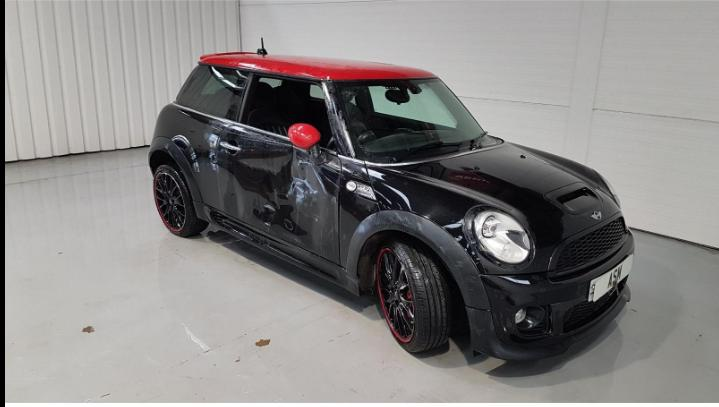Back-bumper: (148, 137, 203, 202)
Back-wheel: (153, 162, 209, 237)
Back-window: (178, 63, 250, 119)
Fender: (338, 155, 381, 270)
Front-bumper: (347, 211, 636, 361)
Front-door: (216, 70, 354, 264)
Front-wheel: (375, 237, 454, 354)
Grille: (547, 211, 629, 279)
Headlight: (461, 203, 535, 271), (594, 170, 621, 208)
Hood: (366, 142, 620, 276)
License-plate: (588, 254, 634, 303)
Mirror: (288, 123, 333, 165)
Quarter-panel: (152, 103, 230, 212)
Rocker-panel: (192, 201, 348, 290)
Roof: (200, 51, 438, 80)
Windshield: (333, 78, 497, 165)
